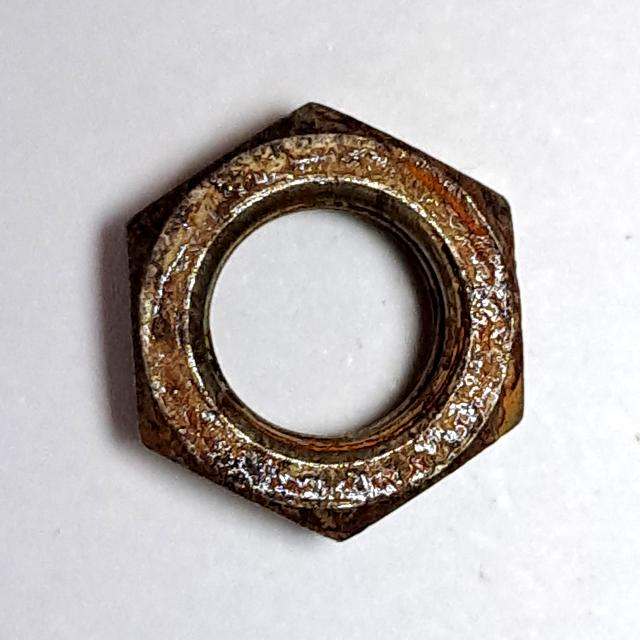Rust: (115, 90, 547, 558)
